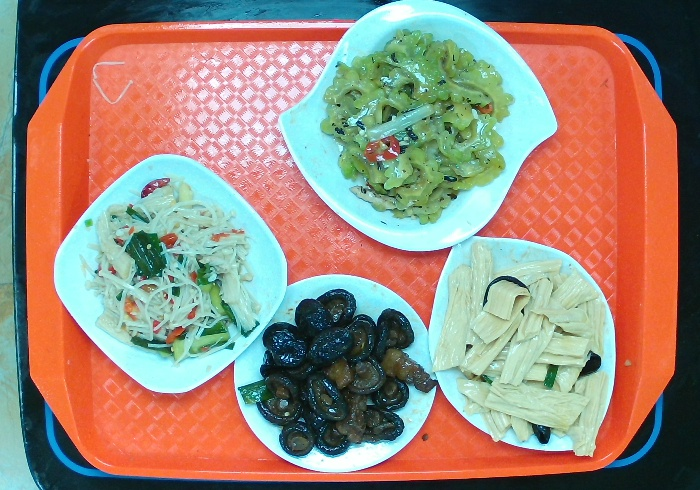RJxy-Da_Du_Pan: (424, 230, 622, 462)
RJxy-Shuang_Jiao_Pan: (273, 1, 563, 256)
RJxy-Si_Fang_Wan: (50, 151, 292, 399)
RJxy-Xiao_Yuan_Die: (229, 266, 441, 478)
